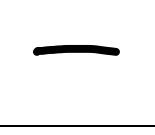minus: (32, 44, 120, 56)
